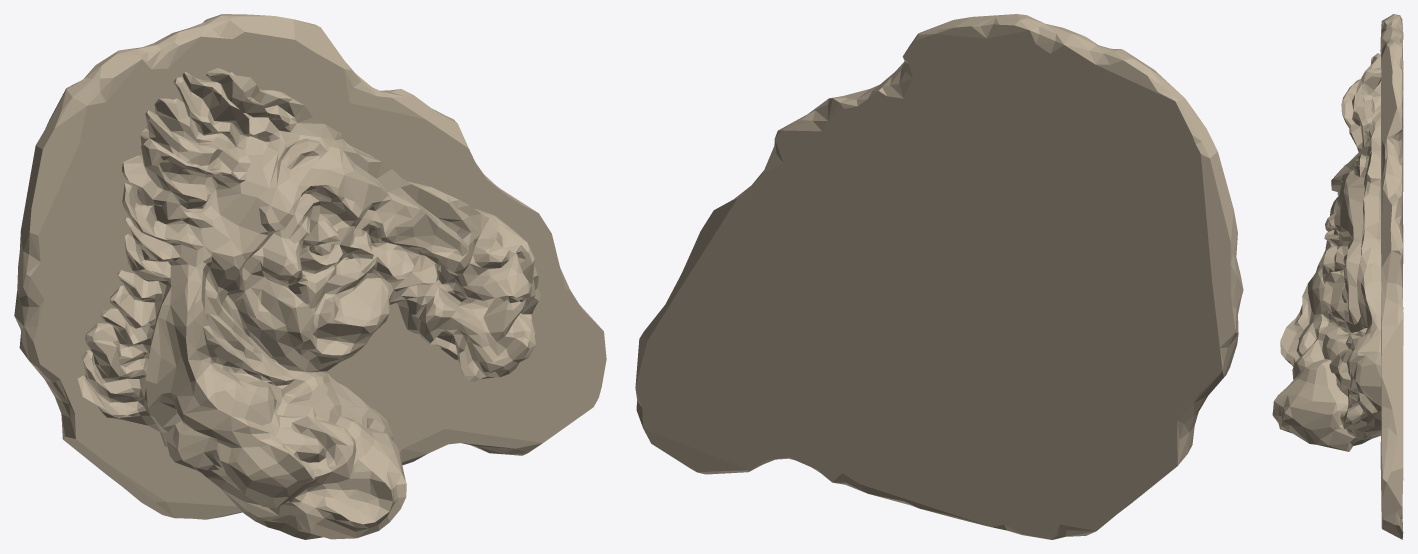
The model's file is Cavallo_01.glb.
The picture shows the model from 3 angles, left to right: view 1: azimuth 30°, elevation 25°; view 2: azimuth 150°, elevation 25°; view 3: azimuth 270°, elevation 25°; orthographic projection. The views are drawn at different scales.
Parts seen in each view (by area): view 1: Cavallo_01; view 2: Cavallo_01; view 3: Cavallo_01.
Boxes of the visible parts, left/top/right/bottom form: Cavallo_01: left=14, top=14, right=606, bottom=539; Cavallo_01: left=635, top=14, right=1243, bottom=539; Cavallo_01: left=1272, top=14, right=1403, bottom=539.
Bounding box in the file's own units: 3.01 × 2.53 × 0.7845.
